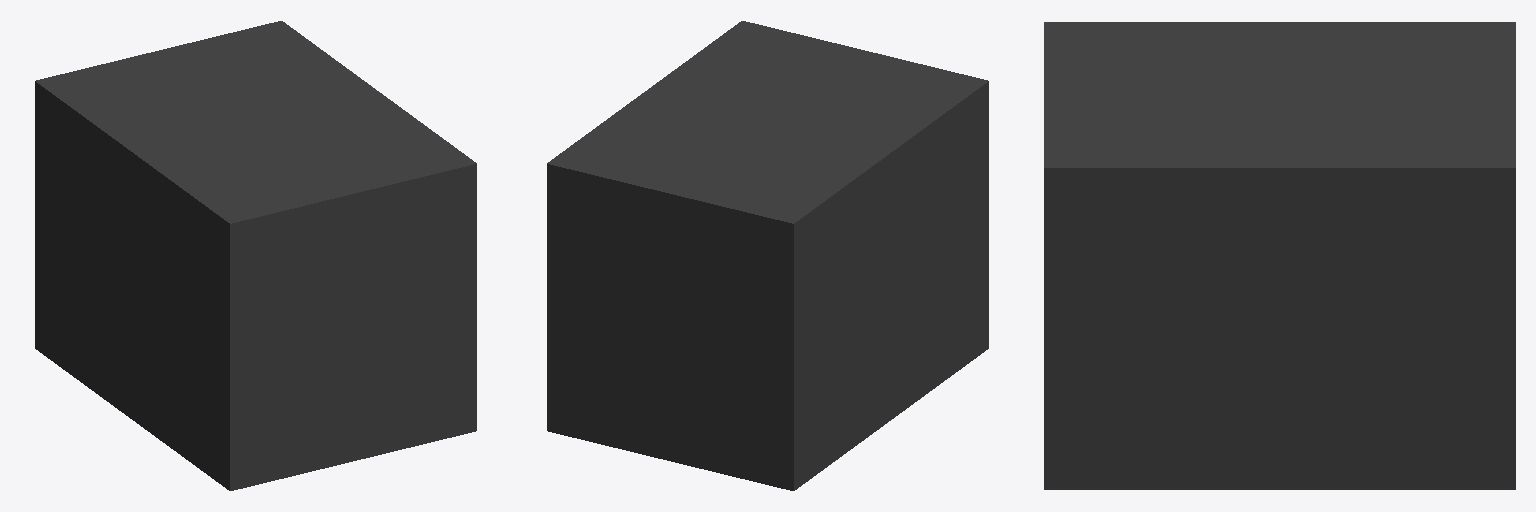
robot.urdf — box.urdf:
<?xml version="1.0" ?>
<robot name="box.urdf">
  <link name="baseLink">
    <contact>
      <lateral_friction value="1.0"/>
      <rolling_friction value="0.0001"/>
      <inertia_scaling value="3.0"/>
    </contact>
    <inertial>
      <origin rpy="0 0 0" xyz="0 0 0"/>
       <mass value="0.1"/>
       <inertia ixx="1" ixy="0" ixz="0" iyy="1" iyz="0" izz="1"/>
    </inertial>
    <visual>
      <origin rpy="0 0 0" xyz="0 0 0"/>
      <geometry>
        <!-- <box size="0.235 0.322 0.243"/> -->
        <mesh filename="box/box.obj" scale="0.235 0.322 0.243"/>
      </geometry>
      <material name="white">
        <color rgba="0.3 0.3 0.3 1"/>
      </material>
    </visual>
    <collision>
      <origin rpy="0 0 0" xyz="0 0 0"/>
      <geometry>
        <mesh filename="box/box.obj" scale="0.235 0.322 0.243"/>
	 	    <!-- <box size="0.235 0.322 0.243"/> -->
      </geometry>
    </collision>
  </link>
</robot>

--- Render facts (derived) ---
The picture shows the robot from 3 angles, left to right: view 1: azimuth 30°, elevation 25°; view 2: azimuth 150°, elevation 25°; view 3: azimuth 270°, elevation 25°; orthographic projection.
Model box.urdf with 1 links and 0 joints (none), rooted at baseLink, posed all joints at 0.
Visible links, largest first — view 1: baseLink; view 2: baseLink; view 3: baseLink.
Boxes of the visible links, x1,y1,x2,y2 form: baseLink: [35, 21, 476, 490]; baseLink: [547, 21, 988, 490]; baseLink: [1044, 22, 1515, 489].
Bounding box of the posed robot: 0.235 × 0.322 × 0.243 m (x, y, z).
Meshes: 1 distinct files referenced, 1 mesh visuals loaded (1 OBJ).
